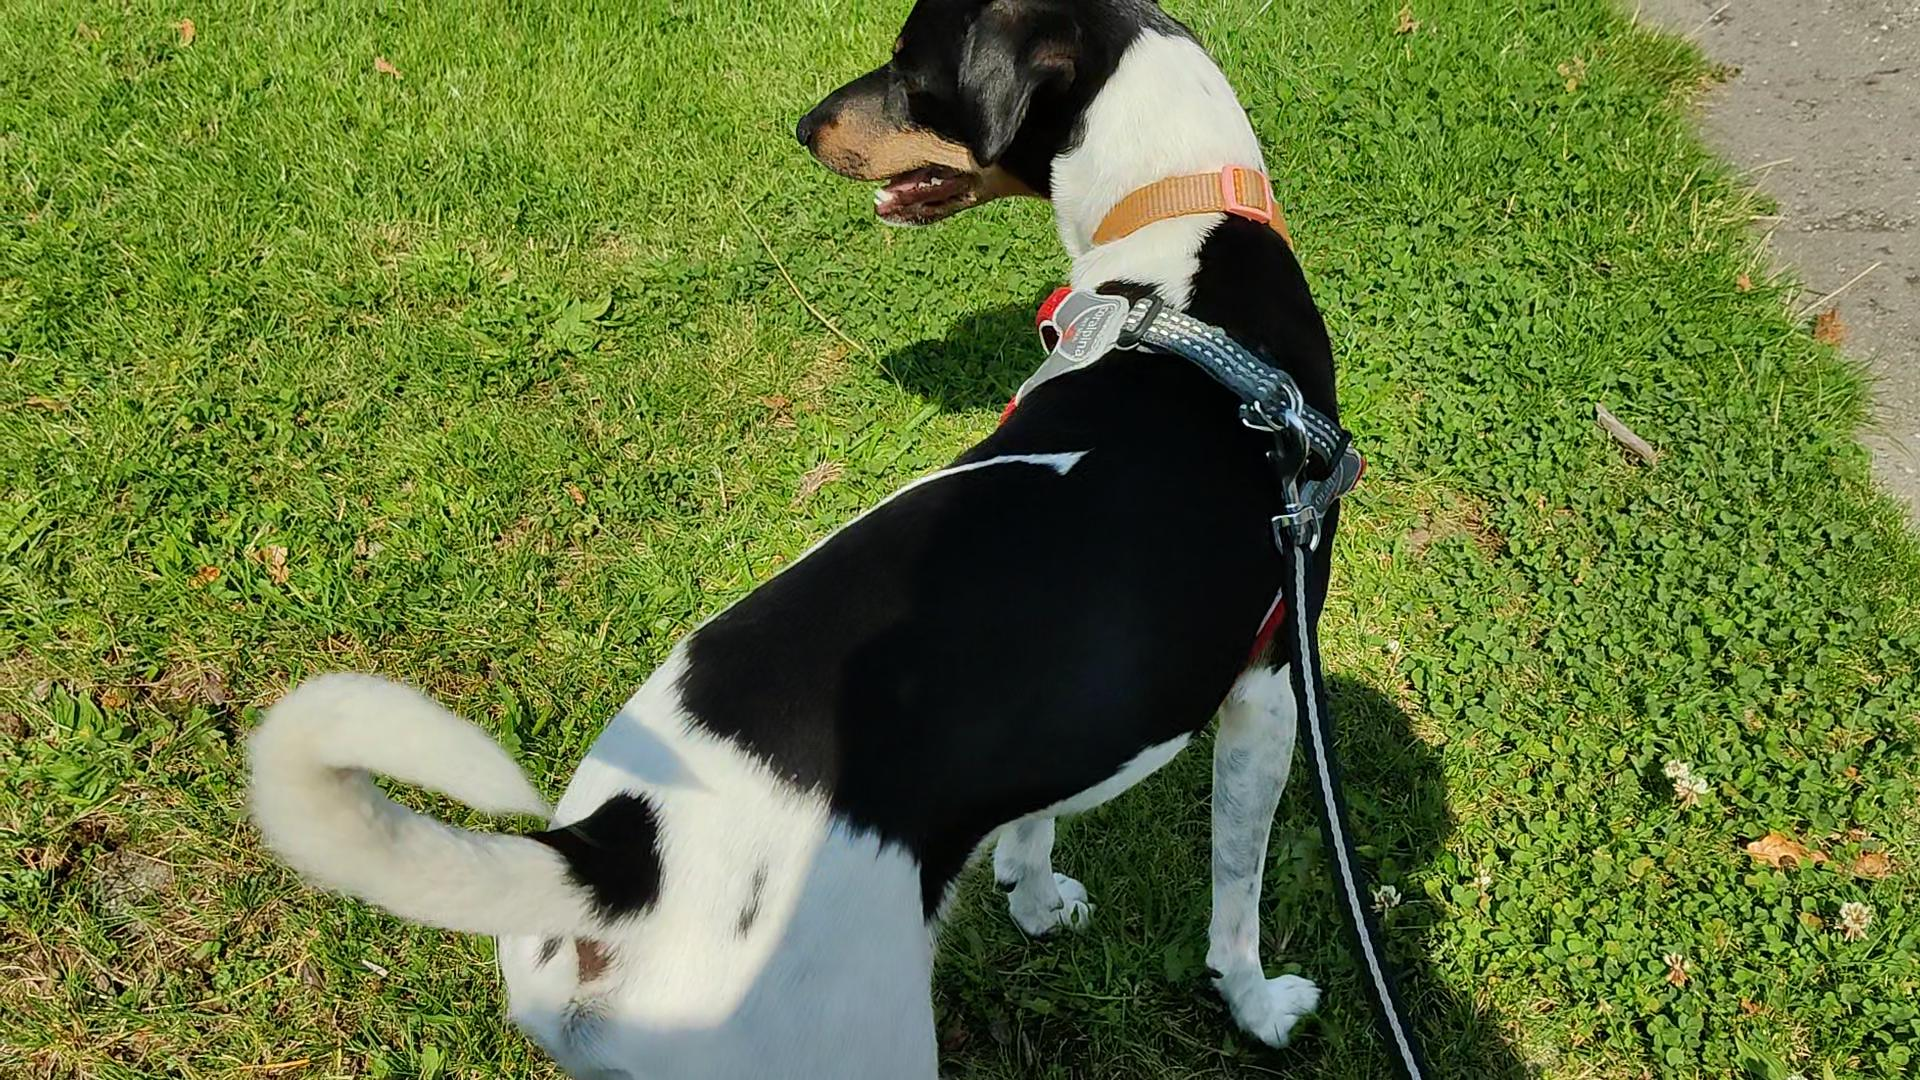Dog: (207, 0, 1379, 1079)
